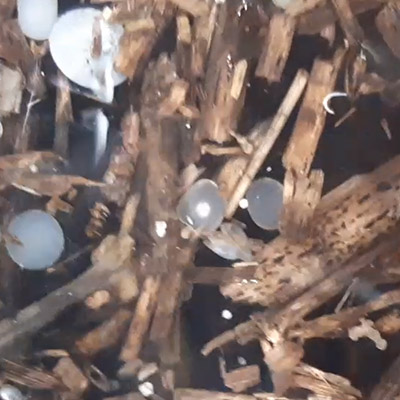nurdle: (46, 6, 141, 92), (5, 210, 72, 274), (173, 176, 230, 239), (242, 176, 299, 232)
